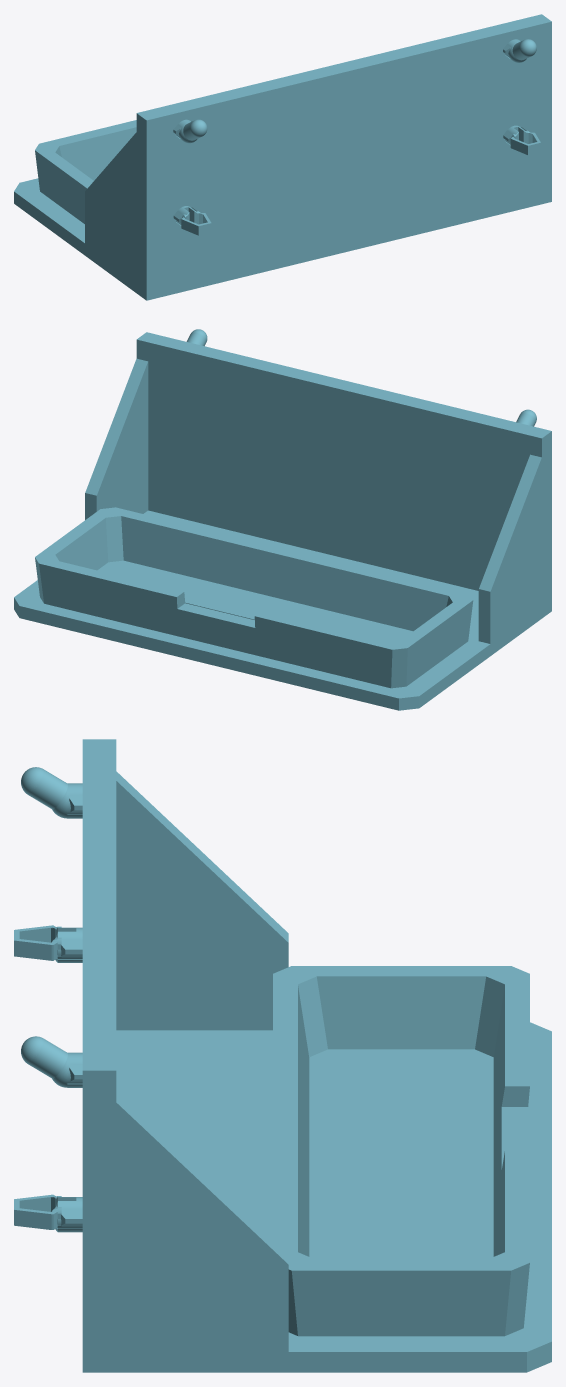
File: part-drip-tray__current-mounts-v1__fit-pf02c9-hoop5__installed.glb
3 renders of one model, top to bottom at view 1: azimuth 30°, elevation 25°; view 2: azimuth 150°, elevation 25°; view 3: azimuth 270°, elevation 25°, orthographic. The views are drawn at different scales.
Visible parts, largest first — view 1: installed.stl; view 2: installed.stl; view 3: installed.stl.
Boxes of the visible parts, left/top/right/bottom form: installed.stl: left=14, top=14, right=551, bottom=300; installed.stl: left=14, top=329, right=551, bottom=710; installed.stl: left=14, top=739, right=551, bottom=1372.
Size of the model in its own units: 0.125 by 0.0534 by 0.0858.
